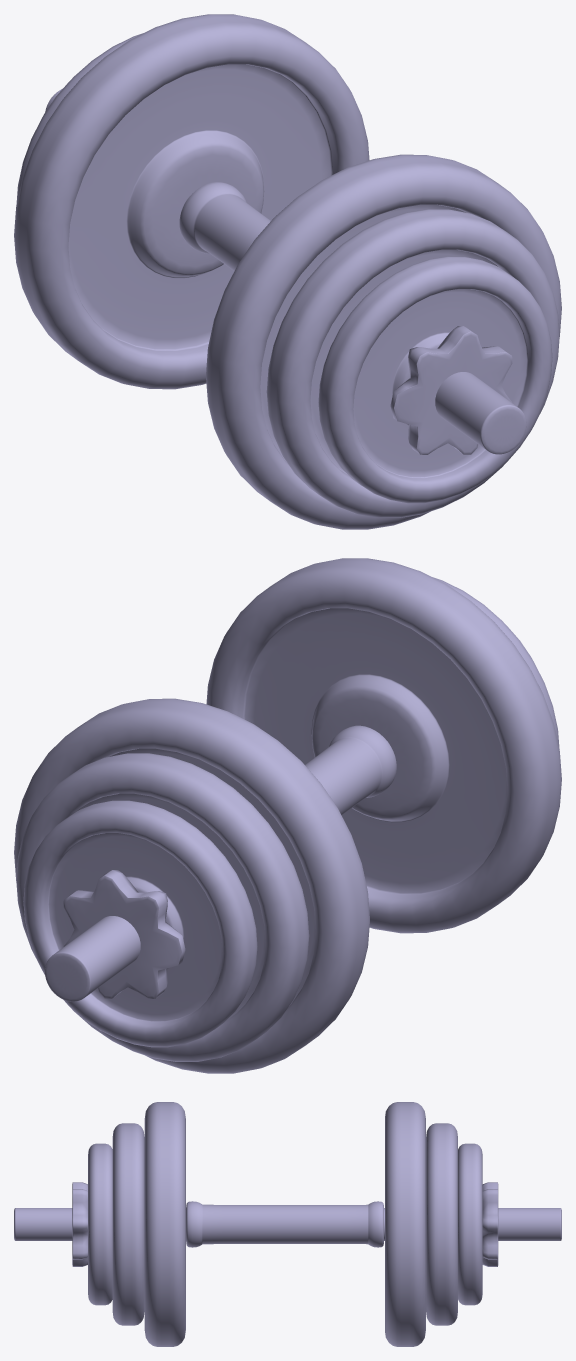
Rendered from free_model_dumbbell.glb.
3 views of the same model, one above another, from view 1: azimuth 30°, elevation 25°; view 2: azimuth 150°, elevation 25°; view 3: azimuth 270°, elevation 25° (orthographic). The views are drawn at different scales.
Visible parts, largest first — view 1: pCylinder7, pCylinder8, pCylinder1; view 2: pCylinder8, pCylinder7, pCylinder1; view 3: pCylinder7, pCylinder8, pCylinder1.
Boxes of the visible parts, left/top/right/bottom form: pCylinder7: left=206, top=154, right=561, bottom=529; pCylinder8: left=14, top=14, right=369, bottom=389; pCylinder1: left=45, top=89, right=526, bottom=454; pCylinder8: left=14, top=698, right=369, bottom=1073; pCylinder7: left=206, top=558, right=561, bottom=933; pCylinder1: left=45, top=725, right=396, bottom=1001; pCylinder7: left=72, top=1102, right=185, bottom=1346; pCylinder8: left=385, top=1102, right=498, bottom=1346; pCylinder1: left=14, top=1201, right=561, bottom=1247.
Bounding box in the file's own units: 29.31 × 29.31 × 65.56.
